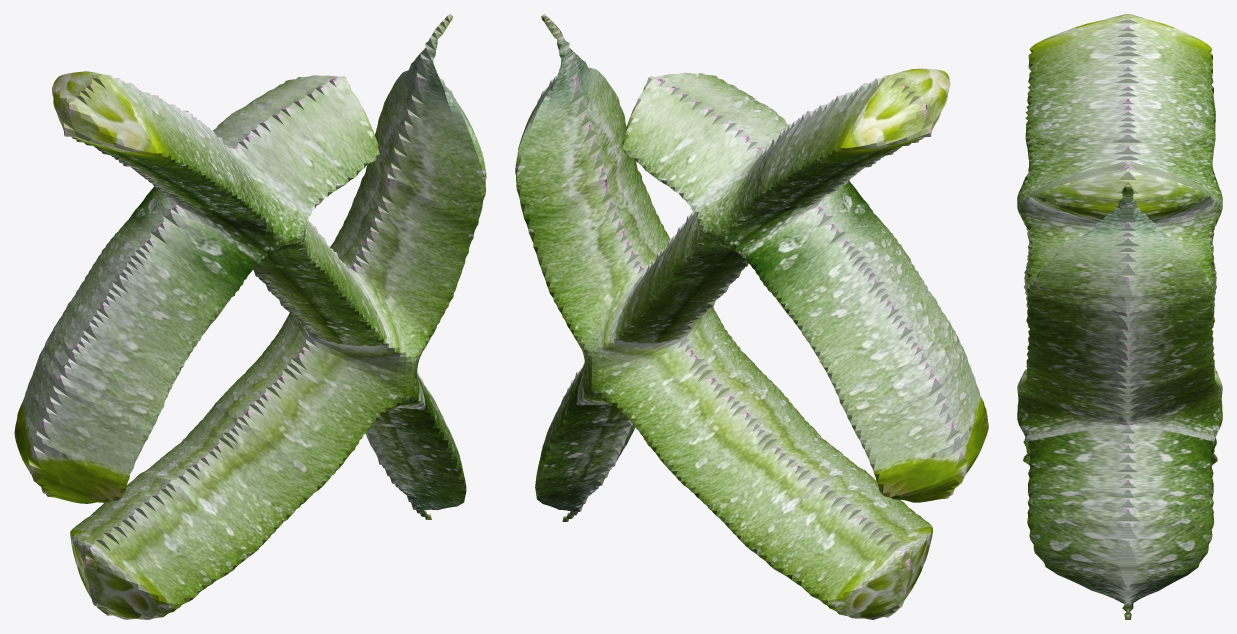
The model's file is greenbeans.glb.
3 renders of one model, left to right at view 1: azimuth 30°, elevation 25°; view 2: azimuth 150°, elevation 25°; view 3: azimuth 270°, elevation 25°, orthographic. The views are drawn at different scales.
Parts seen in each view (by area): view 1: GreenBeans; view 2: GreenBeans; view 3: GreenBeans.
Part boxes in pixels (x1,y1,x2,y2): GreenBeans: (14, 14, 486, 619); GreenBeans: (515, 14, 988, 619); GreenBeans: (1017, 14, 1222, 619).
Size of the model in its own units: 1.18 by 1.42 by 0.5528.
1 material, 1 textured.
